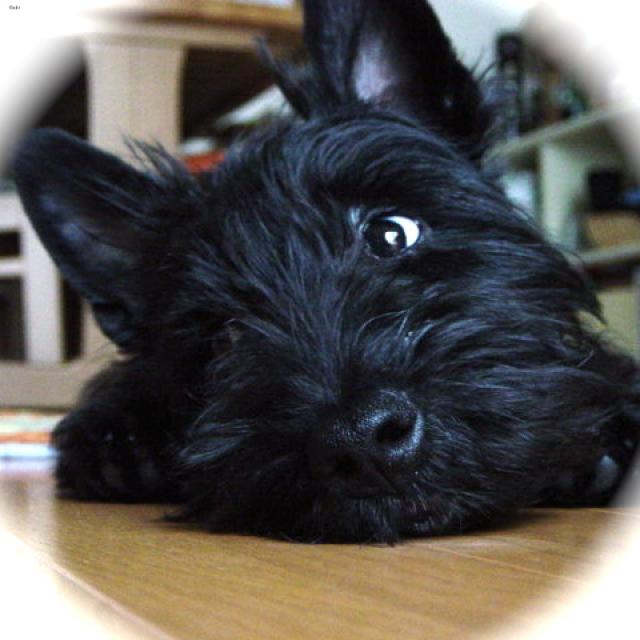dog-scottish_terrier: (7, 1, 637, 551)
